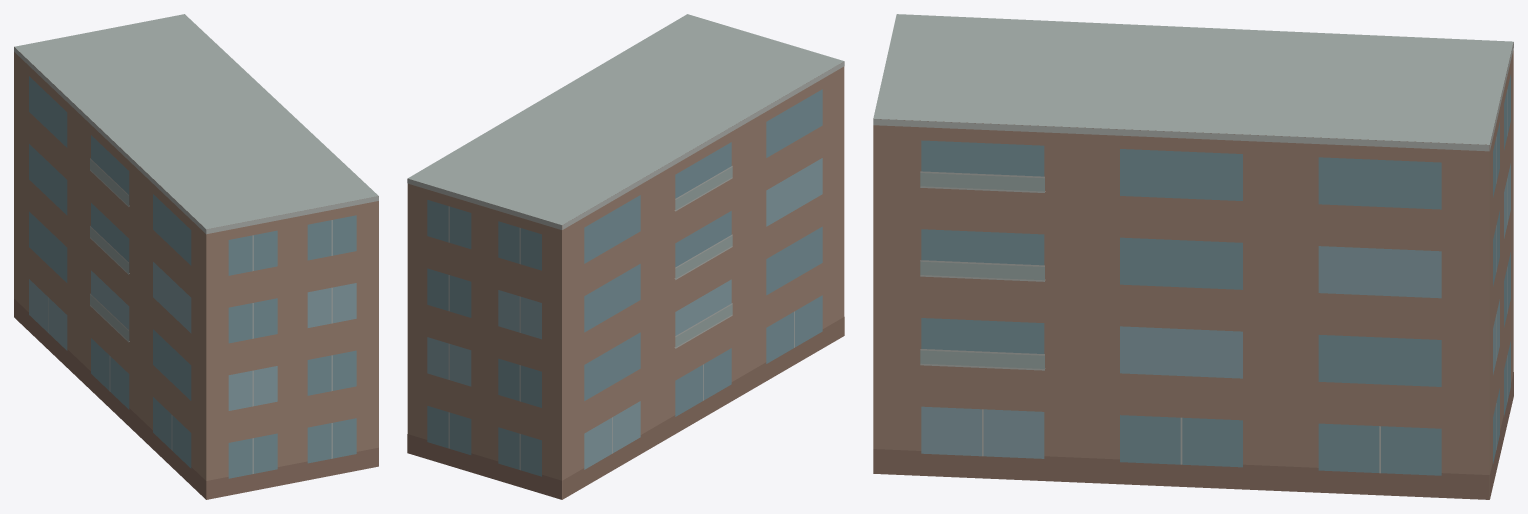
The model's file is survey-upis-33035252.glb.
3 views of the same model, side by side, from view 1: azimuth 30°, elevation 25°; view 2: azimuth 150°, elevation 25°; view 3: azimuth 270°, elevation 25° (orthographic). The views are drawn at different scales.
Parts seen in each view (by area): view 1: survey-upis-33035252.tmp; view 2: survey-upis-33035252.tmp; view 3: survey-upis-33035252.tmp.
Boxes of the visible parts, left/top/right/bottom form: survey-upis-33035252.tmp: left=14, top=14, right=378, bottom=499; survey-upis-33035252.tmp: left=407, top=14, right=844, bottom=499; survey-upis-33035252.tmp: left=873, top=14, right=1513, bottom=499.
Size of the model in its own units: 10.61 by 13.4 by 21.92.
